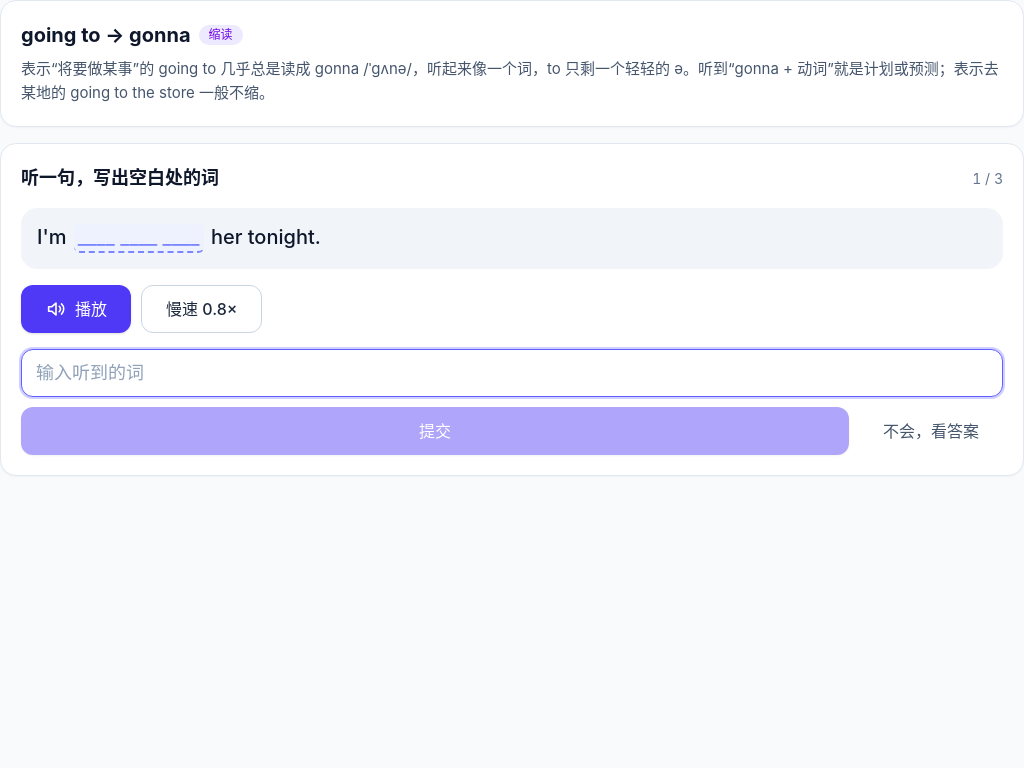
Test: SoundDrill › Enter in the input submits
In the field named "空白处的词": [512, 373] box x1=21 y1=349 x2=1003 y2=397, type "going to call"
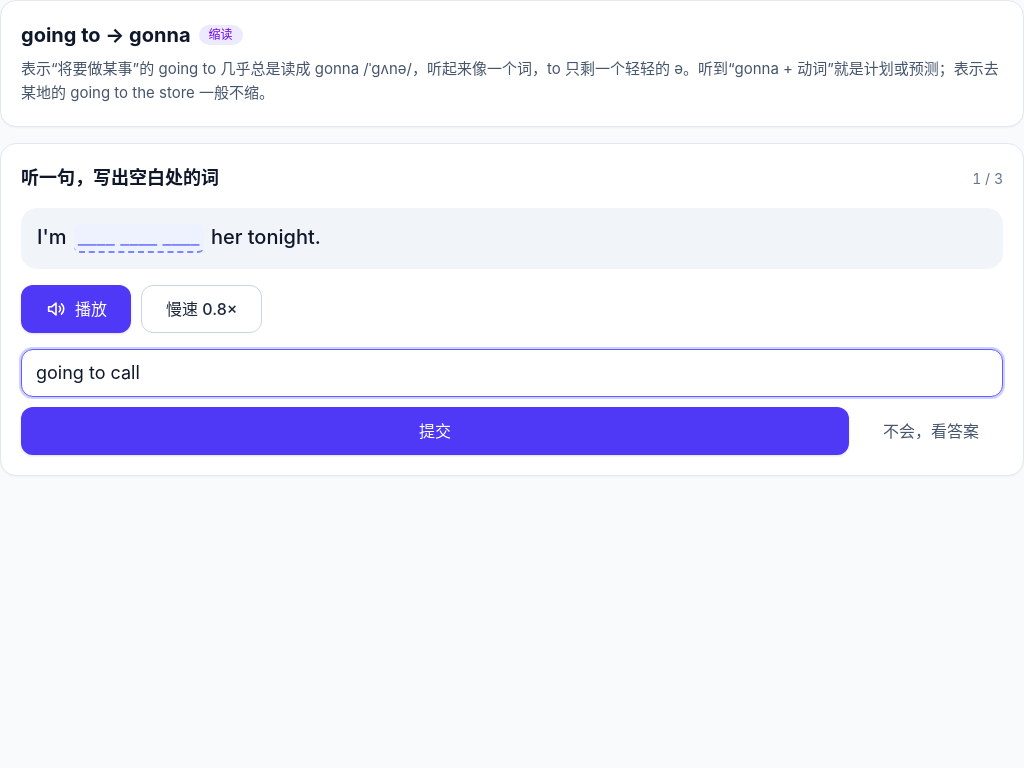
Submit the form named "空白处的词", box x1=21 y1=349 x2=1003 y2=455
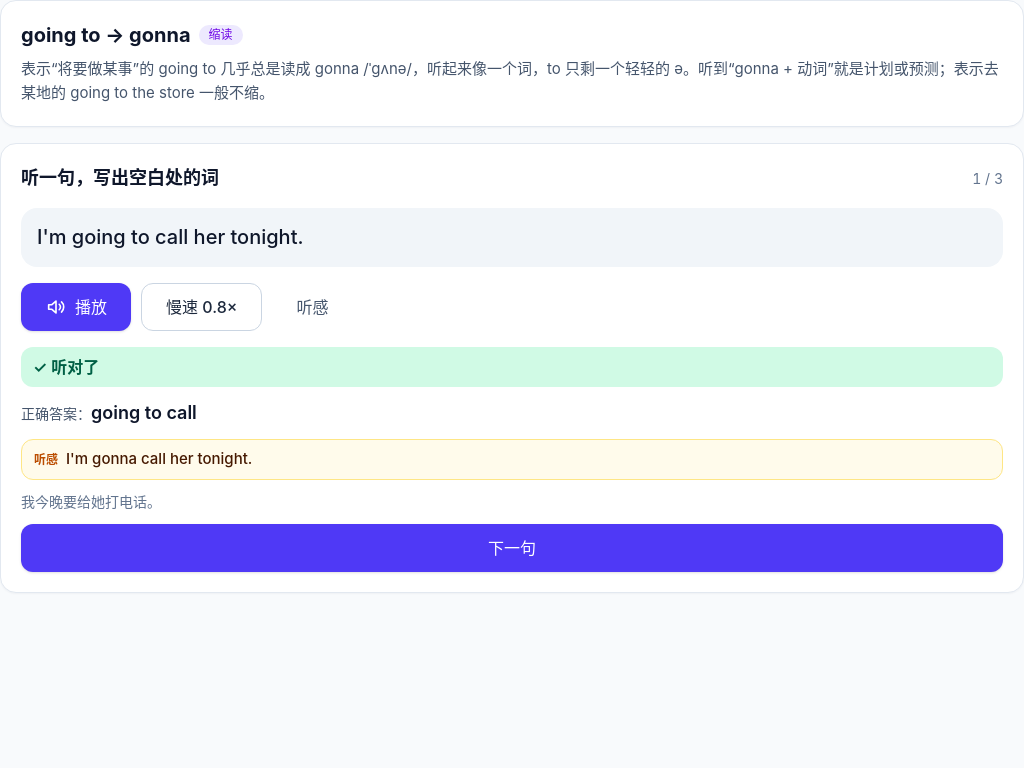
Expected: the element with test id "sound-feedback" is shown, x1=21 y1=347 x2=1003 y2=572
